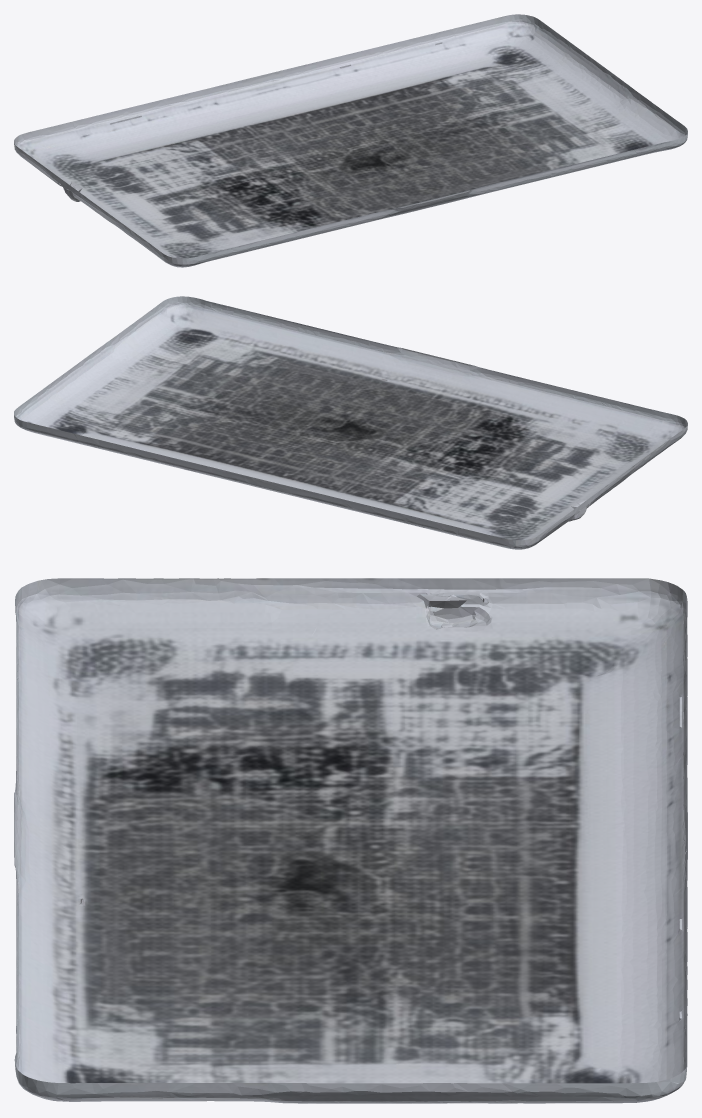
Rendered from body.glb.
3 renders of one model, top to bottom at view 1: azimuth 30°, elevation 25°; view 2: azimuth 150°, elevation 25°; view 3: azimuth 270°, elevation 25°, orthographic. The views are drawn at different scales.
Parts seen in each view (by area): view 1: source_surface_0; view 2: source_surface_0; view 3: source_surface_0.
Boxes of the visible parts, <box> form: source_surface_0: <box>14,14,687,267</box>; source_surface_0: <box>14,296,687,549</box>; source_surface_0: <box>14,578,687,1103</box>.
Size of the model in its own units: 0.3119 by 0.0118 by 0.1759.
1 material, 1 textured.
